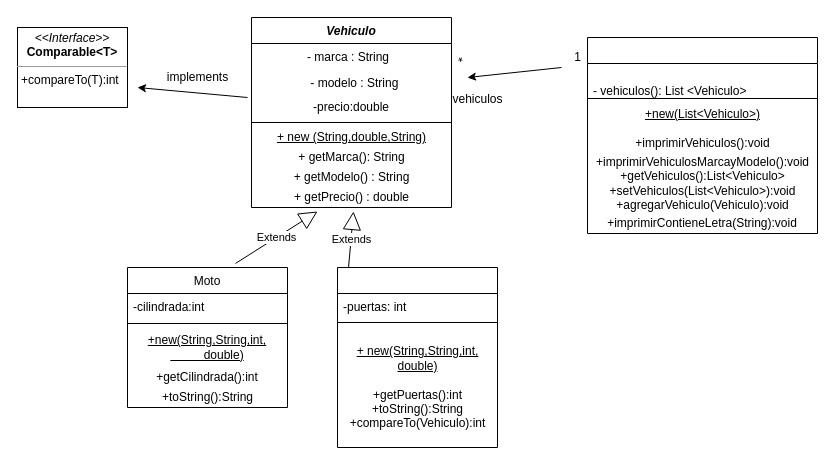
Some shapes in this 835 by 465 pixel diagram are drawn without their labels. Each missing label, with the box of its shape:
Auto: (336, 266, 498, 448)
Consecionaria: (586, 36, 818, 234)
